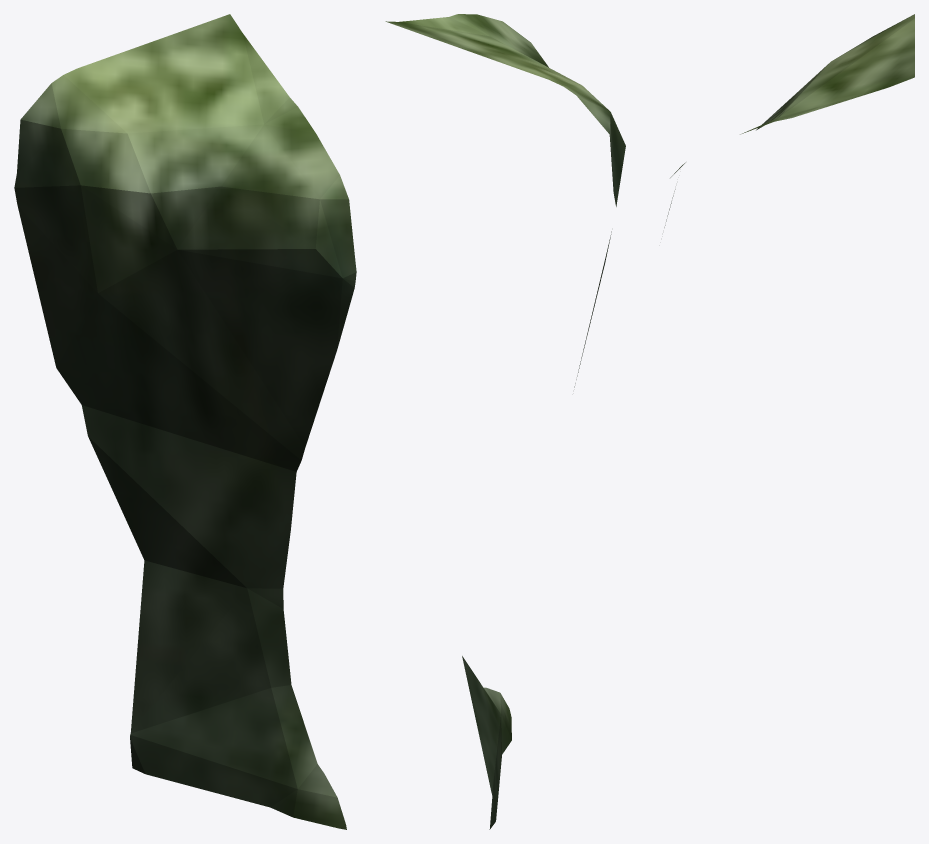
3 renders of one model, left to right at view 1: azimuth 30°, elevation 25°; view 2: azimuth 150°, elevation 25°; view 3: azimuth 270°, elevation 25°, orthographic. The views are drawn at different scales.
Bounding box in the file's own units: 0.3948 × 1.28 × 0.4013.
Materials: 1 (1 with a texture image).
